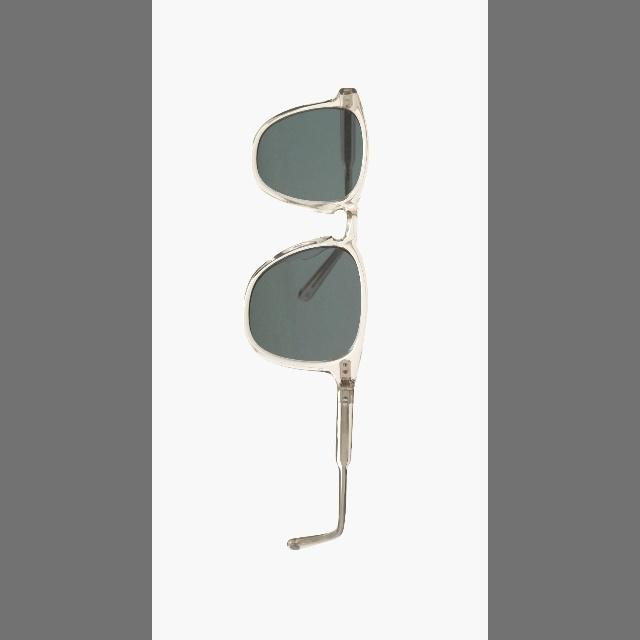Sunglasses: (205, 66, 402, 568)
